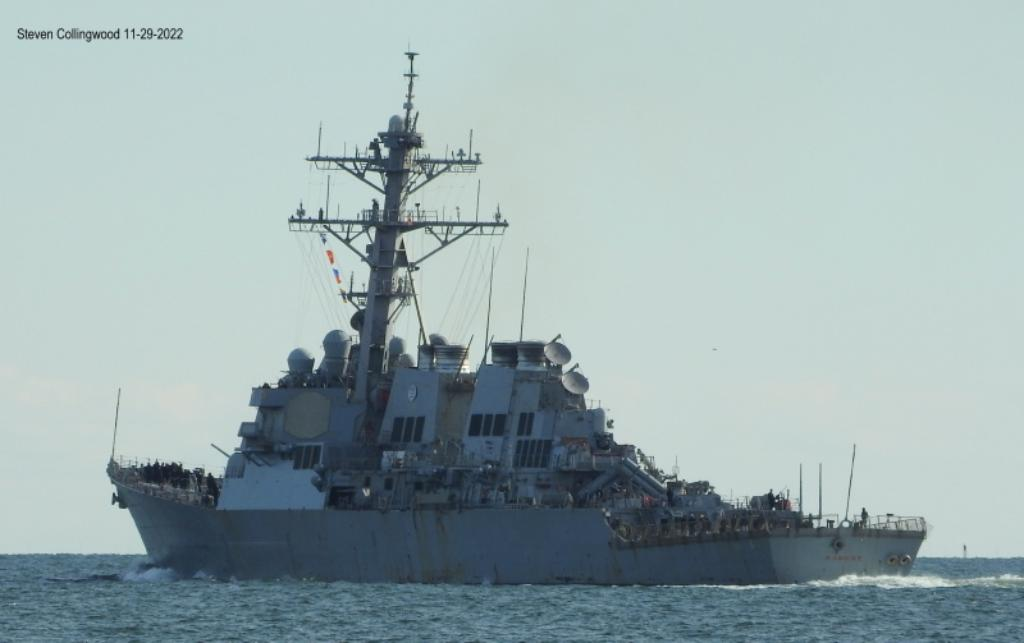Warship: (99, 45, 931, 587)
